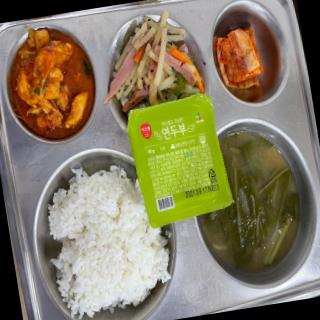Nasi: (38, 163, 156, 320)
